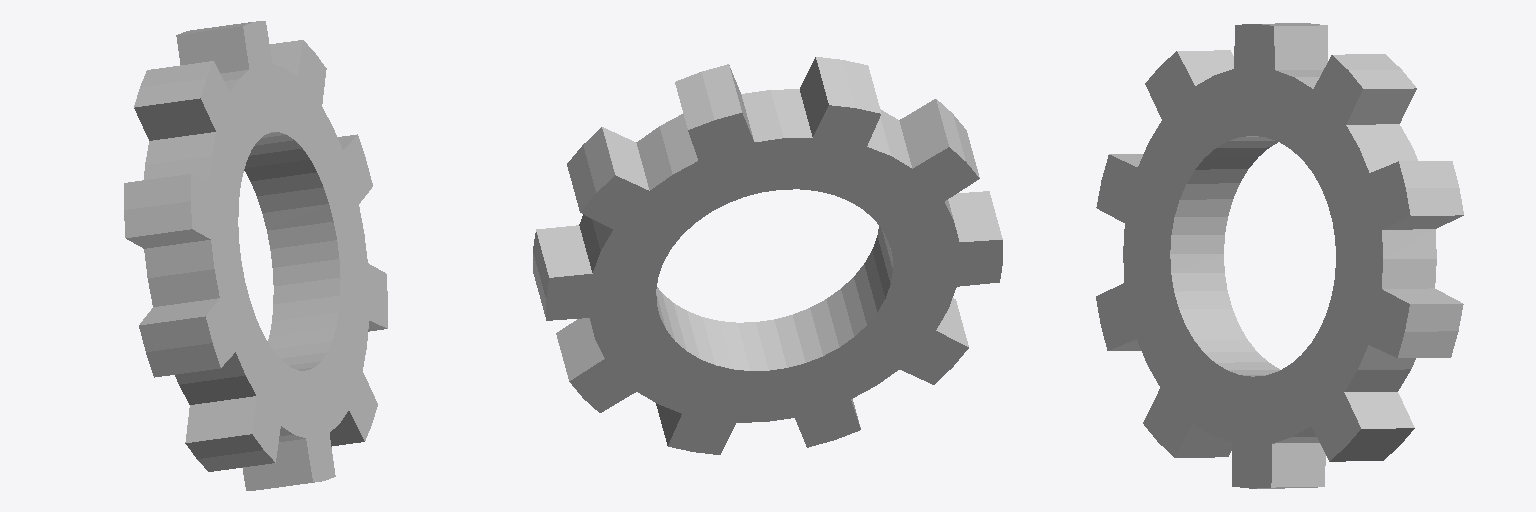
Rendered from Collectible_Gear_Gear.obj.
3 renders of one model, left to right at view 1: azimuth 30°, elevation 25°; view 2: azimuth 150°, elevation 25°; view 3: azimuth 270°, elevation 25°, orthographic.
Visible parts, largest first — view 1: Collectible_Gear_Gear; view 2: Collectible_Gear_Gear; view 3: Collectible_Gear_Gear.
Part boxes in pixels (bbox=[...]): Collectible_Gear_Gear: bbox=[124, 21, 387, 490]; Collectible_Gear_Gear: bbox=[533, 57, 1002, 454]; Collectible_Gear_Gear: bbox=[1096, 23, 1463, 488].
Bounding box in the file's own units: 0.3511 × 0.3967 × 0.3182.